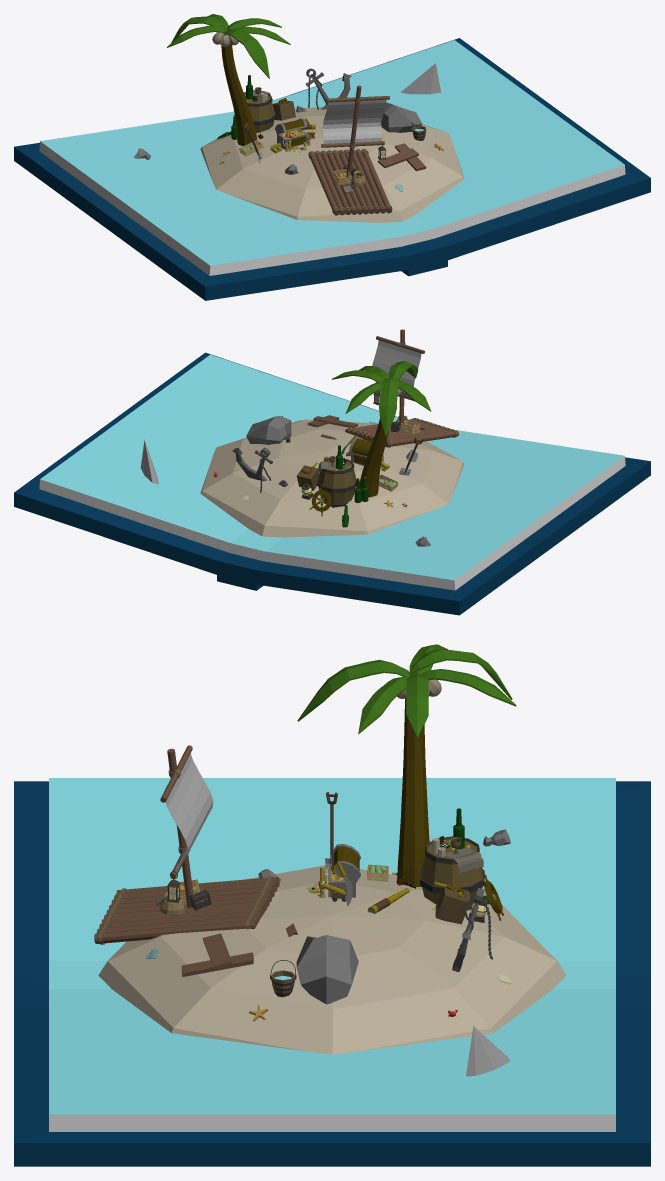
File: sea_steage_test.fbx
3 renders of one model, top to bottom at view 1: azimuth 30°, elevation 25°; view 2: azimuth 150°, elevation 25°; view 3: azimuth 270°, elevation 25°, orthographic. The views are drawn at different scales.
Visible parts, largest first — view 1: map1; view 2: map1; view 3: map1.
Part boxes in pixels (bbox=[...]): map1: bbox=[14, 14, 650, 300]; map1: bbox=[14, 329, 650, 615]; map1: bbox=[14, 644, 650, 1166].
Size of the model in its own units: 225 by 87.83 by 167.
